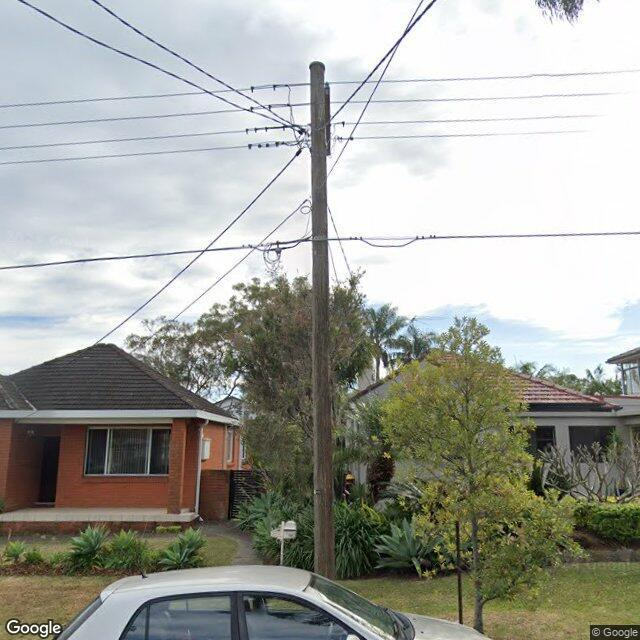crossarm: (324, 82, 331, 160)
timber-pole: (308, 61, 334, 571)
